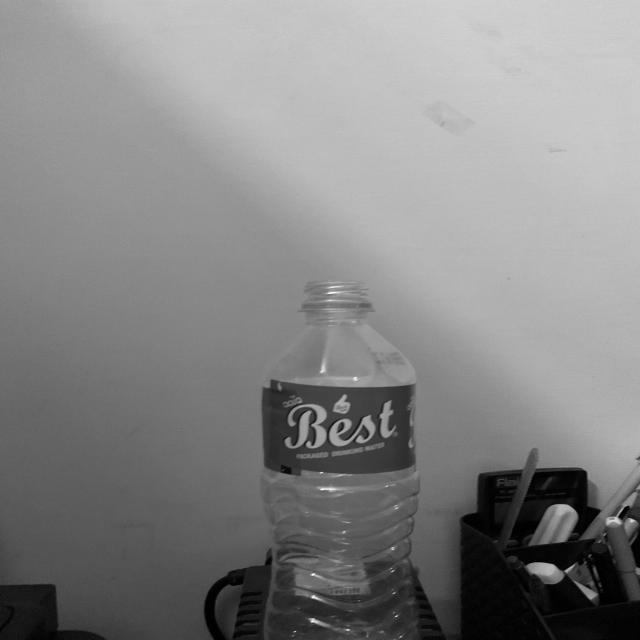open-cap: (304, 279, 371, 310)
